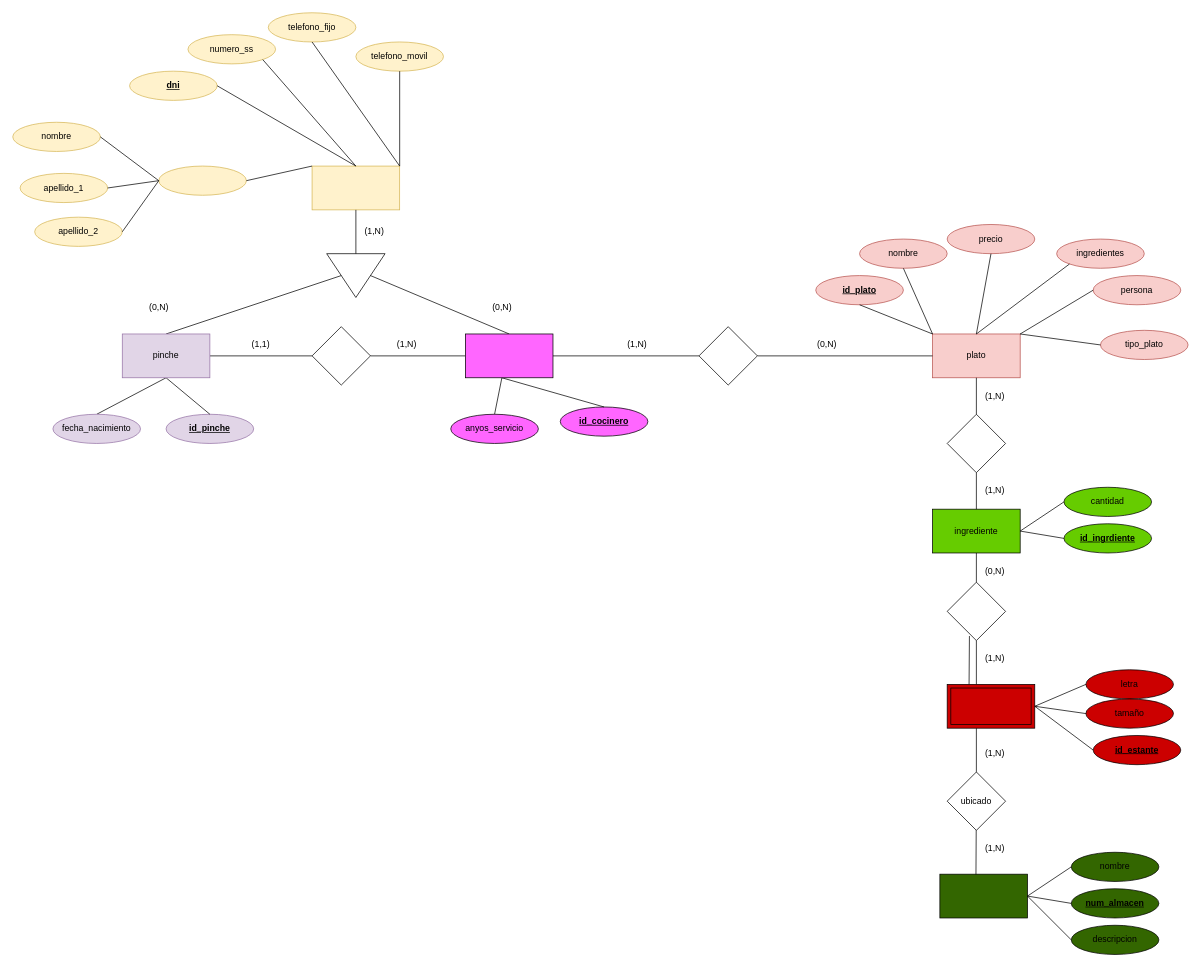
The diagram is 1201 pixels wide and 967 high, and some of its shapes have lost their labels. The shapes that lost their labels are listed below. From the top down, each one's centre as x and y in pixels, then its label:
pixel 202 180: nombre_completo
pixel 355 187: empleado
pixel 340 355: maneja
pixel 509 355: cocinero
pixel 727 355: hace
pixel 976 443: contiene
pixel 976 611: organizado en
pixel 990 706: estante
pixel 983 895: almacen
